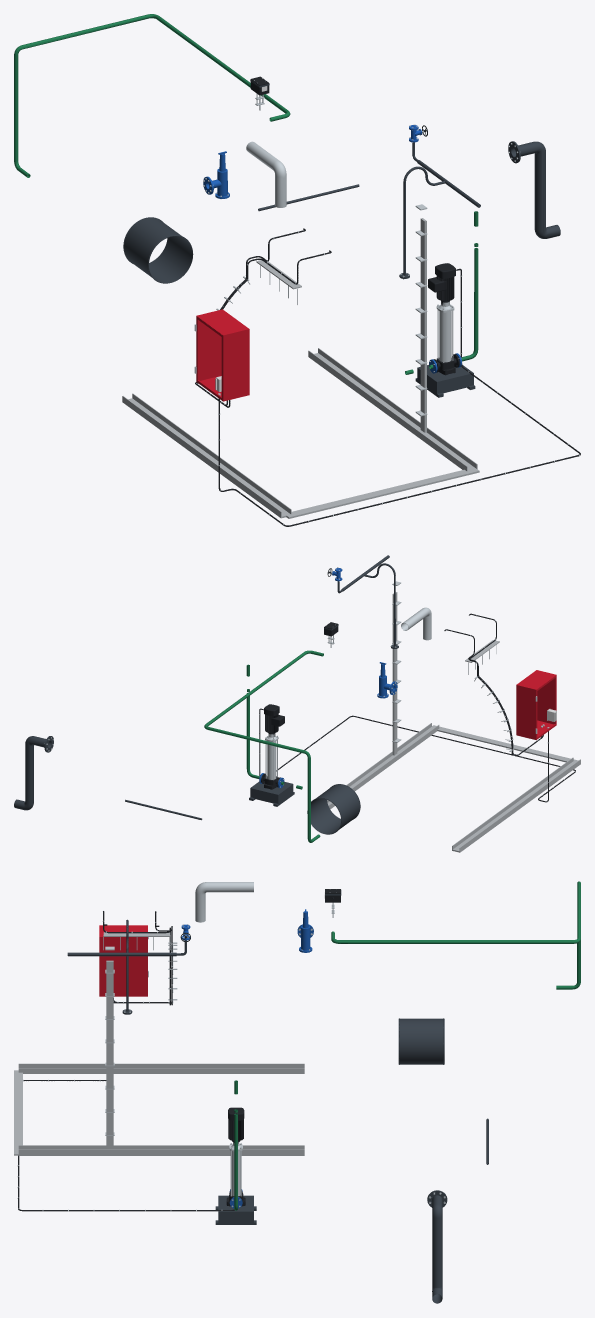
The picture shows the model from 3 angles, top to bottom: view 1: azimuth 30°, elevation 25°; view 2: azimuth 150°, elevation 25°; view 3: azimuth 270°, elevation 25°; orthographic projection. The views are drawn at different scales.
Visible parts, largest first — view 1: cables / zinc, control_cabinet / control_cabinet_0.npz, flue_spacer / dark, from_economizer / green, bdv_water_drain / dark, wiring_pump_1 / black, pump_branch_1 / dark, steam_rise / steel, pressure_header / dark, pump_1 CAD solid 15, pump_branch_1 / green, safety_2 / blue; view 2: cables / zinc, control_cabinet / control_cabinet_0.npz, flue_spacer / dark, from_economizer / green, bdv_water_drain / dark, wiring_pump_1 / black, pump_branch_1 / dark, pressure_header / dark, steam_rise / steel, pump_1 CAD solid 15, pump_branch_1 / green, cables / steel; view 3: cables / zinc, control_cabinet / control_cabinet_0.npz, flue_spacer / dark, from_economizer / green, bdv_water_drain / dark, steam_rise / steel, pressure_header / dark, pump_branch_1 / dark, wiring_pump_1 / black, cables / steel.
Part boxes in pixels (box(x1,y1,x2,y2)): cables / zinc: box(122, 218, 479, 518); control_cabinet / control_cabinet_0.npz: box(194, 309, 249, 401); flue_spacer / dark: box(123, 217, 193, 283); from_economizer / green: box(14, 14, 290, 177); bdv_water_drain / dark: box(508, 141, 560, 238); wiring_pump_1 / black: box(218, 268, 580, 526); pump_branch_1 / dark: box(415, 365, 475, 397); steam_rise / steel: box(246, 141, 286, 207); pressure_header / dark: box(399, 142, 480, 278); pump_1 CAD solid 15: box(428, 263, 455, 301); pump_branch_1 / green: box(405, 211, 478, 374); safety_2 / blue: box(203, 151, 229, 198); cables / zinc: box(327, 592, 580, 852); control_cabinet / control_cabinet_0.npz: box(516, 670, 556, 740); flue_spacer / dark: box(307, 784, 360, 834); from_economizer / green: box(204, 650, 323, 842); bdv_water_drain / dark: box(14, 736, 53, 810); wiring_pump_1 / black: box(259, 708, 575, 802); pump_branch_1 / dark: box(249, 781, 294, 806); pressure_header / dark: box(337, 555, 398, 648); steam_rise / steel: box(401, 607, 431, 640); pump_1 CAD solid 15: box(264, 704, 284, 733); pump_branch_1 / green: box(246, 664, 302, 789); cables / steel: box(392, 581, 513, 751); cables / zinc: box(14, 932, 304, 1155); control_cabinet / control_cabinet_0.npz: box(99, 925, 148, 996); flue_spacer / dark: box(398, 1018, 444, 1064); from_economizer / green: box(331, 881, 580, 989); bdv_water_drain / dark: box(427, 1190, 447, 1303); steam_rise / steel: box(195, 882, 253, 922); pressure_header / dark: box(67, 919, 186, 1014); pump_branch_1 / dark: box(215, 1195, 256, 1224); wiring_pump_1 / black: box(18, 1080, 234, 1211); cables / steel: box(103, 935, 177, 1135).
Bounding box in the file's own units: 5.98 × 3.24 × 6.2.
